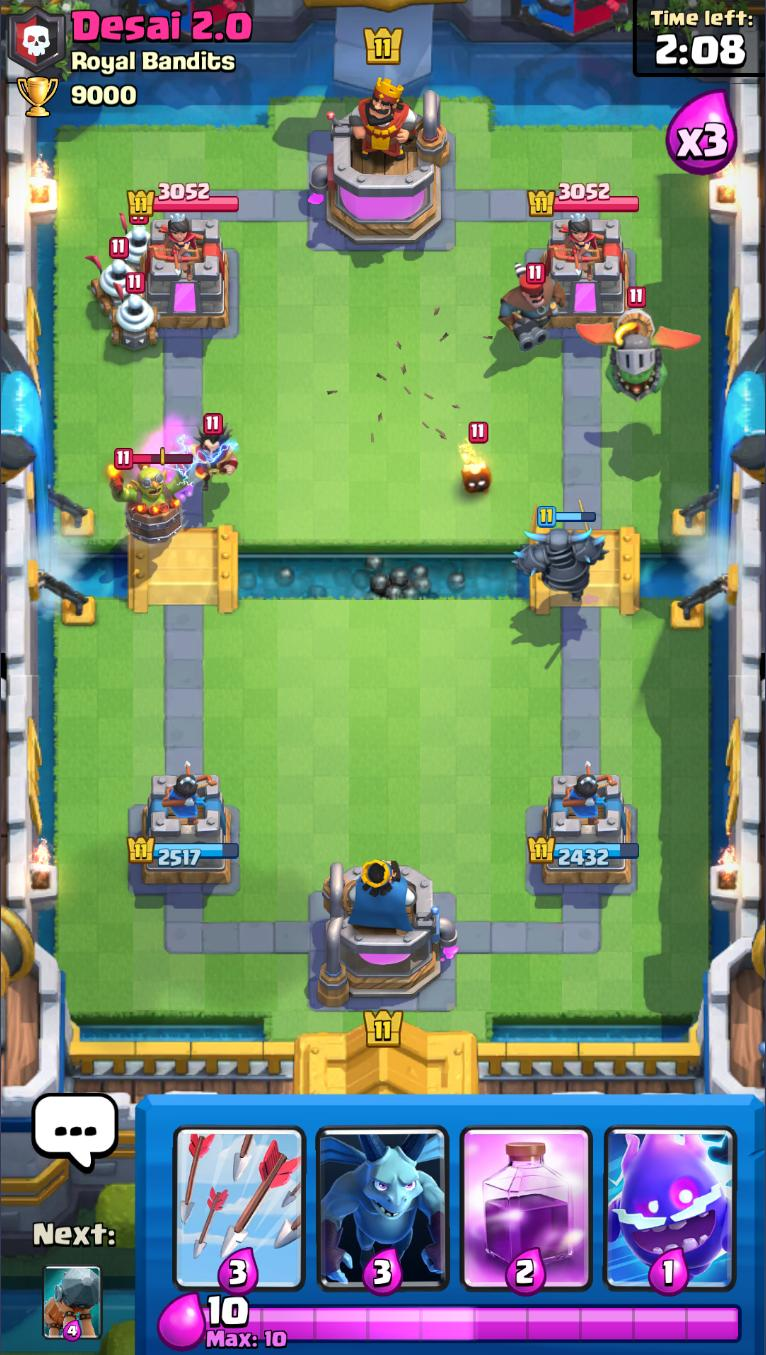ArrowDeck: (166, 1096, 312, 1294)
BattleRamNext: (41, 1264, 104, 1342)
Demolisher: (107, 447, 194, 546)
ElectroSpiritDeck: (598, 1095, 743, 1296)
ElectroWizard: (185, 413, 240, 493)
Elixir: (202, 1294, 743, 1349)
EnemyTower: (138, 215, 232, 331), (539, 215, 632, 331)
FireSpirit: (458, 421, 491, 496)
Hunter: (499, 260, 566, 351)
InfernoDragon: (575, 287, 701, 400)
KingTower: (310, 79, 451, 248)
MiniGenerator: (107, 273, 164, 349), (84, 237, 137, 315), (115, 212, 155, 269)
MinionsDeck: (312, 1096, 453, 1298)
MyKingTower: (316, 856, 459, 1009)
MyPekka: (514, 499, 609, 605)
MyPrincessTower: (125, 771, 242, 889), (528, 770, 641, 889)
MyPrincessTowerHP: (125, 835, 241, 868), (527, 835, 641, 868)
PrincessTower: (149, 215, 203, 277), (550, 216, 603, 274)
RageDeck: (454, 1097, 598, 1296)
TowerPrincessHP: (127, 182, 240, 217), (528, 182, 641, 216)
